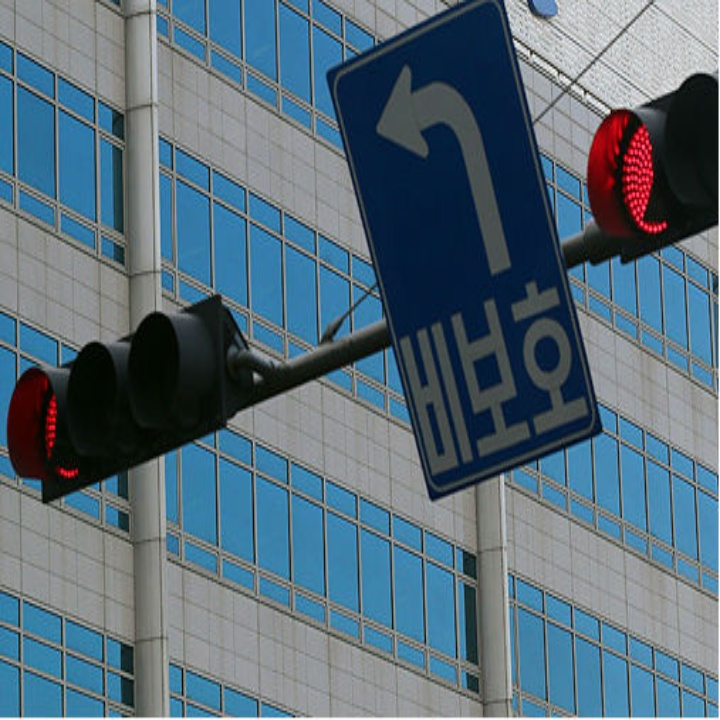left: (362, 57, 522, 285)
